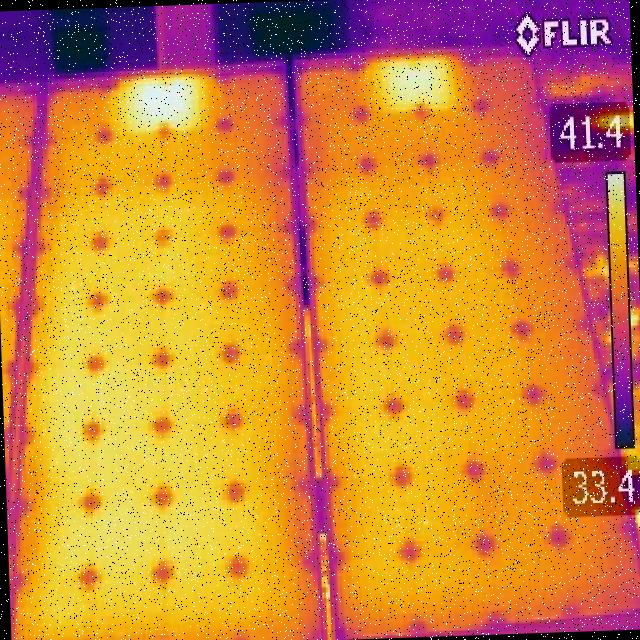Hotspot: (114, 68, 225, 138), (366, 52, 470, 115)
